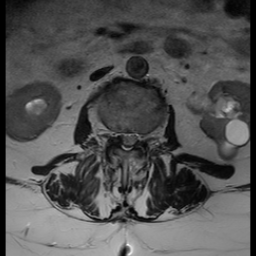CCS_normal: (123, 122, 131, 158)
LFS_normal: (138, 122, 145, 150)
LLS_normal: (131, 122, 138, 154)
RFS_stenosis: (110, 120, 117, 146)
RLS_stenosis: (117, 122, 123, 149)
